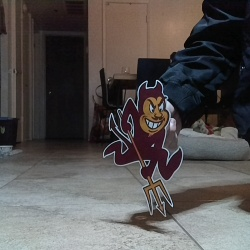sparky: (102, 79, 184, 218)
